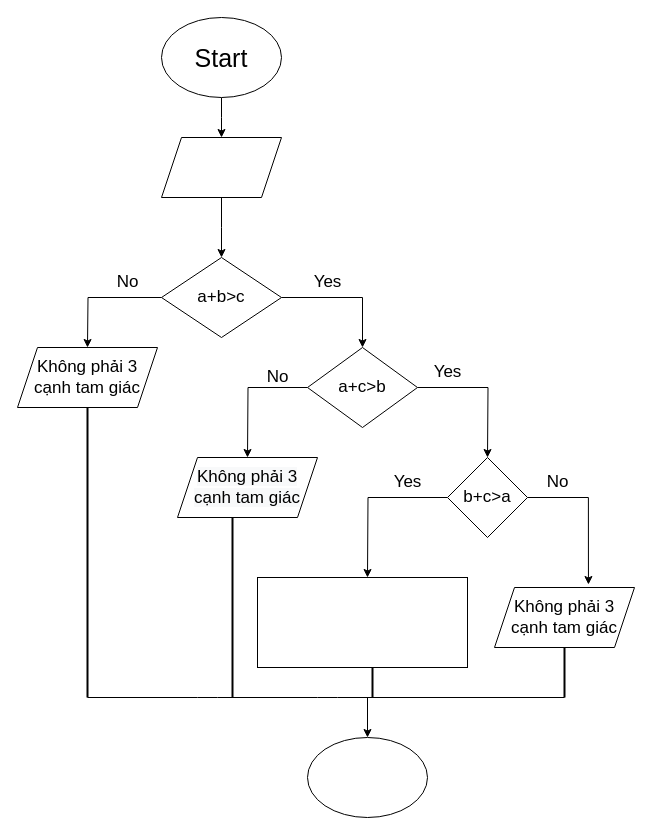
Some shapes in this 652 by 835 pixel diagram are drawn without their labels. Each missing label, with the centre of its shape:
"End" goes at pixel 367 777.
"Nhập a,b,c" goes at pixel 221 167.
"P=a+b+c p=P/2 S=căn{p*(p-a)*(p-b)*(p-c)}" goes at pixel 362 622.
